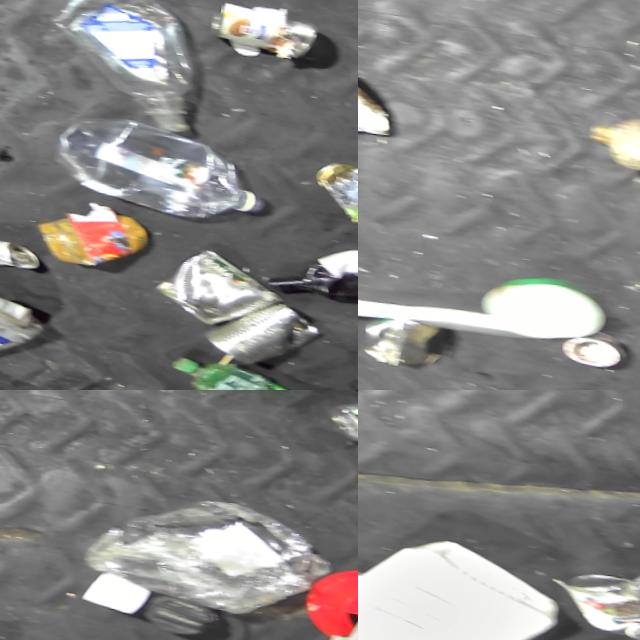can: (144, 233, 286, 332), (193, 281, 322, 371), (555, 557, 640, 633), (203, 0, 322, 54), (358, 307, 439, 370), (304, 148, 358, 222), (553, 318, 625, 367), (0, 223, 39, 275)
milk_jug: (358, 507, 563, 640), (314, 563, 358, 640)
plastic_bottle: (43, 100, 272, 225), (31, 0, 208, 133), (618, 553, 640, 597)
